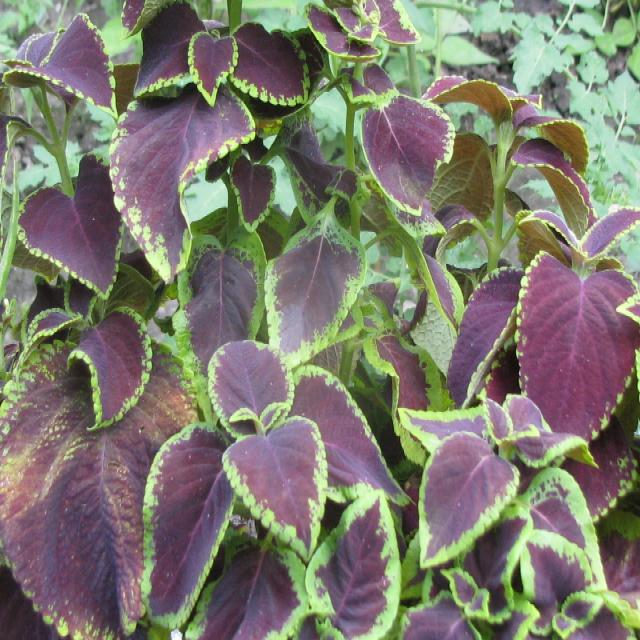Coleus: (0, 28, 391, 639), (115, 245, 639, 639), (419, 60, 605, 312)
